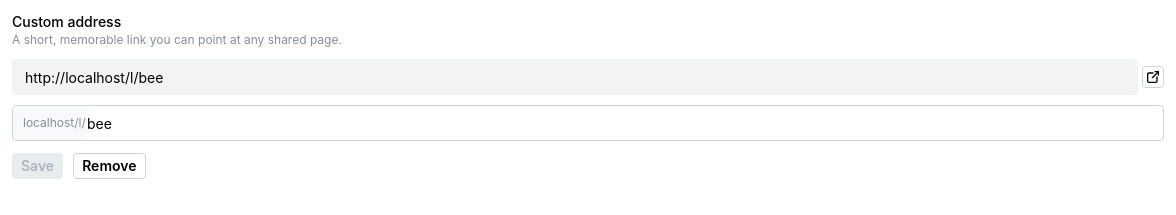
Scenario: ShareAliasSection — taken-name handling is never a dead end › shows a 'will move it here' HINT (not a terminal error) when the name belongs to another page, and keeps Save enabled
Replace the text in the field with placeholder "my-page" next to "localhost/l/" with "test2" at (588, 123), box [12, 105, 1164, 141]
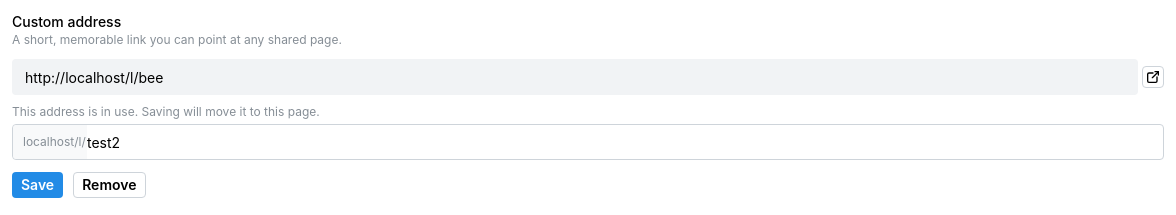
Check: the text "This address is in use. Saving will move it to this page." is shown, box [12, 104, 320, 119]
Check: the button "Save" is enabled, box [12, 172, 63, 198]
